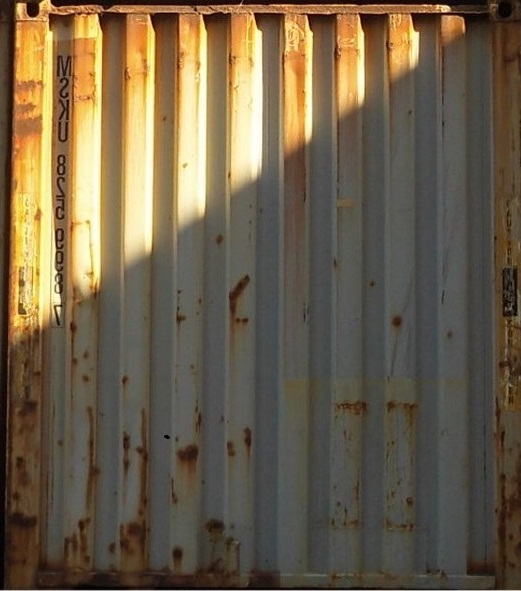container_no_door: (15, 1, 518, 589)
